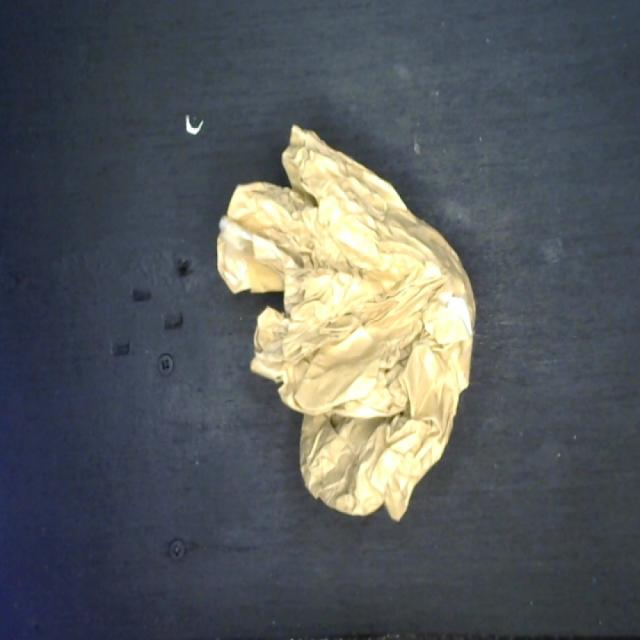biodegradable: (214, 121, 478, 526)
